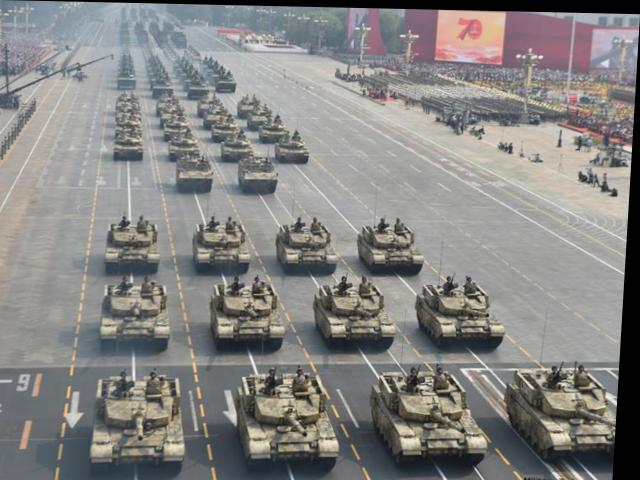other: (407, 363, 424, 384), (578, 358, 590, 383), (361, 273, 375, 291), (269, 366, 280, 386), (554, 361, 563, 385), (438, 363, 450, 379), (343, 274, 354, 291), (445, 274, 455, 291), (467, 274, 475, 293), (377, 216, 391, 226), (299, 368, 309, 382), (122, 370, 131, 385), (122, 215, 134, 226), (122, 276, 132, 289), (146, 276, 156, 288), (140, 214, 148, 228), (234, 278, 244, 289), (152, 370, 161, 382), (256, 277, 264, 290), (210, 215, 220, 225), (229, 214, 237, 225), (295, 214, 305, 222), (397, 216, 403, 228), (313, 216, 321, 224)
tank: (508, 366, 623, 454), (374, 371, 492, 456), (241, 373, 347, 458), (98, 375, 192, 463), (418, 283, 510, 344), (315, 282, 401, 341), (215, 285, 288, 342), (106, 285, 173, 345), (359, 225, 427, 271), (280, 224, 341, 266), (197, 224, 253, 267), (110, 223, 163, 266), (238, 157, 280, 188), (177, 159, 215, 188), (276, 135, 310, 159), (115, 135, 145, 158), (170, 134, 199, 157), (226, 137, 255, 156), (165, 117, 188, 137), (213, 118, 235, 138), (260, 119, 286, 135), (204, 107, 226, 125), (117, 118, 143, 133), (247, 109, 268, 126), (161, 104, 180, 122), (198, 97, 217, 113), (217, 78, 237, 90), (154, 82, 174, 94), (159, 93, 174, 109), (238, 99, 259, 110), (118, 76, 137, 88), (189, 83, 209, 94)
